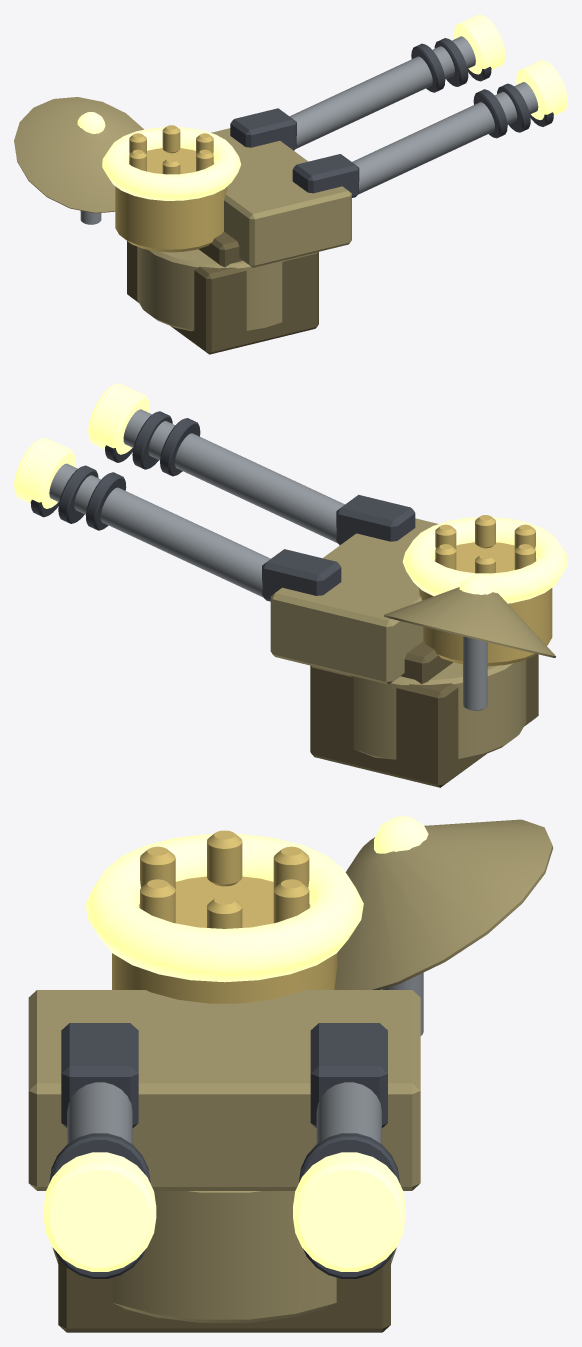
File: flak_turret_l2.glb
3 views of the same model, one above another, from view 1: azimuth 30°, elevation 25°; view 2: azimuth 150°, elevation 25°; view 3: azimuth 270°, elevation 25° (orthographic). The views are drawn at different scales.
Parts seen in each view (by area): view 1: Cube.002, Cone, Cube, Cylinder, Cylinder.011, Cylinder.006, Cylinder.001, Torus, Cube.003, Cube.004, Cylinder.005, Cylinder.010 (+7 smaller); view 2: Cube.002, Cube, Cylinder, Cylinder.001, Cylinder.006, Torus, Cone, Cylinder.011, Cube.004, Cube.003, Cylinder.010, Cylinder.005 (+7 smaller); view 3: Cube.002, Cone, Cylinder, Torus, Cylinder.005, Cylinder.010, Cube, Cylinder.011, Cube.003, Cube.004, Cylinder.001, Cylinder.006 (+9 smaller).
Boxes of the visible parts, x1,y1,x2,y2 form: Cube.002: (211, 128, 351, 267); Cone: (14, 97, 143, 213); Cube: (127, 241, 318, 354); Cylinder: (137, 246, 285, 331); Cylinder.011: (115, 148, 227, 252); Cylinder.006: (290, 36, 475, 148); Cylinder.001: (352, 82, 538, 194); Torus: (102, 127, 241, 200); Cube.003: (292, 154, 359, 197); Cube.004: (230, 108, 296, 150); Cylinder.005: (516, 60, 567, 120); Cylinder.010: (453, 14, 505, 74); Cube.002: (270, 518, 438, 684); Cube: (310, 654, 538, 787); Cylinder: (350, 659, 526, 759); Cylinder.001: (123, 409, 344, 542); Cylinder.006: (49, 463, 270, 597); Torus: (402, 517, 567, 603); Cone: (384, 587, 555, 657); Cylinder.011: (419, 542, 552, 666); Cube.004: (262, 549, 341, 601); Cube.003: (336, 494, 415, 545); Cylinder.010: (14, 437, 75, 508); Cylinder.005: (88, 383, 149, 454); Cube.002: (28, 990, 420, 1190); Cone: (334, 819, 553, 989); Cylinder: (52, 1191, 396, 1322); Torus: (85, 834, 363, 982); Cylinder.005: (43, 1152, 156, 1271); Cylinder.010: (293, 1152, 405, 1271); Cube: (58, 1258, 390, 1332); Cylinder.011: (112, 876, 337, 1003); Cube.003: (61, 1023, 138, 1127); Cube.004: (310, 1023, 387, 1127); Cylinder.001: (67, 1082, 132, 1144); Cylinder.006: (316, 1082, 381, 1144).
Bounding box in the file's own units: 1.77 × 0.7503 × 0.8835.
